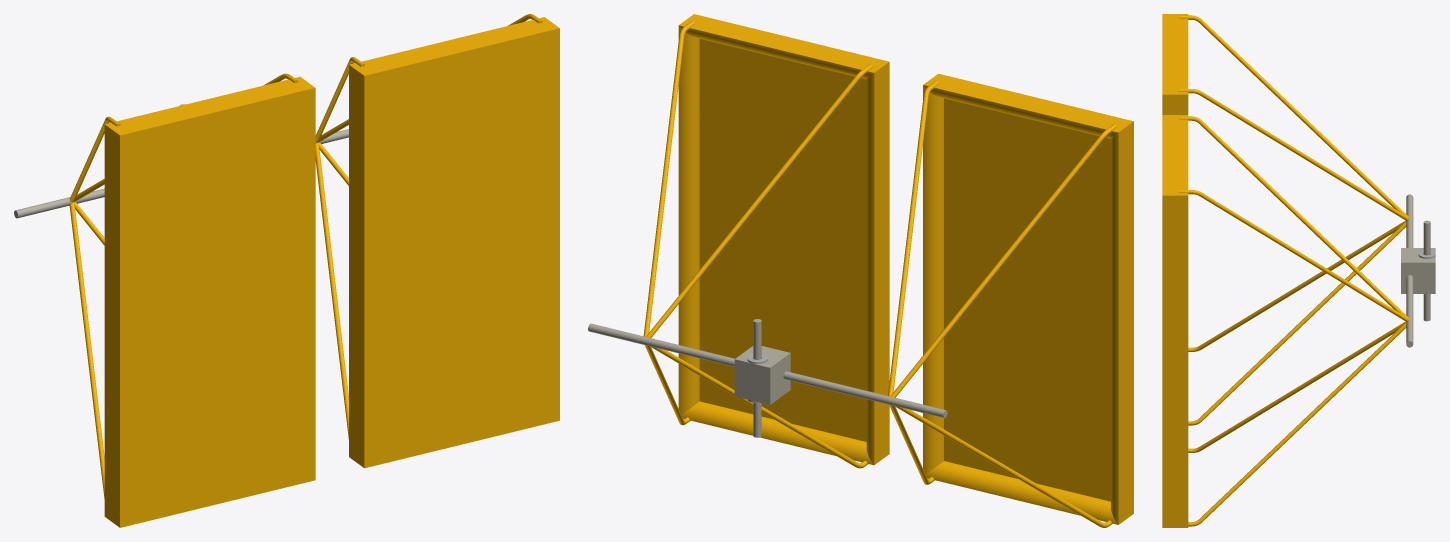
File: balance2.dae
The picture shows the model from 3 angles, left to right: view 1: azimuth 30°, elevation 25°; view 2: azimuth 150°, elevation 25°; view 3: azimuth 270°, elevation 25°; orthographic projection. The views are drawn at different scales.
Visible parts, largest first — view 1: 5cb992be505c701592c0120e (×7); view 2: 5cb992be505c701592c0120e (×13); view 3: 5cb992be505c701592c0120e (×15).
Part boxes in pixels (left/top/right/bottom): 5cb992be505c701592c0120e (×7): left=14, top=17, right=559, bottom=527; 5cb992be505c701592c0120e (×13): left=588, top=14, right=1133, bottom=527; 5cb992be505c701592c0120e (×15): left=1162, top=14, right=1435, bottom=527.
Bounding box in the file's own units: 0.495 × 0.315 × 0.427.
